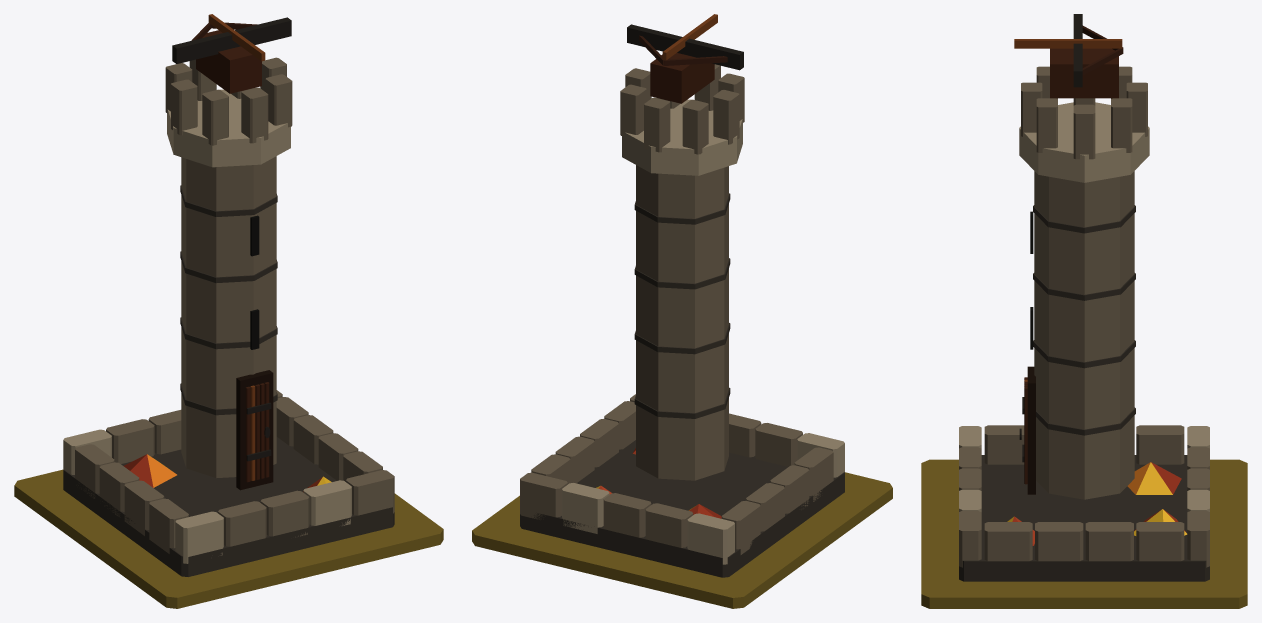
File: ballista_t2.glb
The picture shows the model from 3 angles, left to right: view 1: azimuth 30°, elevation 25°; view 2: azimuth 150°, elevation 25°; view 3: azimuth 270°, elevation 25°; orthographic projection. The views are drawn at different scales.
Parts seen in each view (by area): view 1: MMR | ballista | T02 Architecture.001, MMR | ballista | Tier 02 Ground.001, MMR | ballista | T02 Autumn Dressing.001; view 2: MMR | ballista | T02 Architecture.001, MMR | ballista | Tier 02 Ground.001; view 3: MMR | ballista | T02 Architecture.001, MMR | ballista | Tier 02 Ground.001, MMR | ballista | T02 Autumn Dressing.001.
Part boxes in pixels (x1,y1,x2,y2): MMR | ballista | T02 Architecture.001: [63, 14, 394, 576]; MMR | ballista | Tier 02 Ground.001: [14, 469, 443, 608]; MMR | ballista | T02 Autumn Dressing.001: [123, 454, 331, 492]; MMR | ballista | T02 Architecture.001: [520, 14, 844, 577]; MMR | ballista | Tier 02 Ground.001: [472, 472, 892, 608]; MMR | ballista | T02 Architecture.001: [959, 14, 1209, 581]; MMR | ballista | Tier 02 Ground.001: [921, 459, 1247, 608]; MMR | ballista | T02 Autumn Dressing.001: [1007, 462, 1187, 545].
Size of the model in its own units: 1.3 by 2.2 by 1.3.
Materials: 1 (1 with a texture image).
